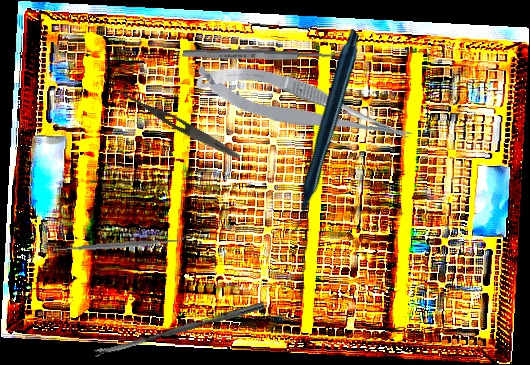Dressing Forceps: (112, 85, 243, 163)
Handpiece: (211, 28, 431, 237)
Micro Scissor: (189, 43, 417, 172)
Spatula Surgical: (48, 233, 187, 258)
Surgical Spoon: (93, 300, 265, 358), (182, 48, 347, 62)
